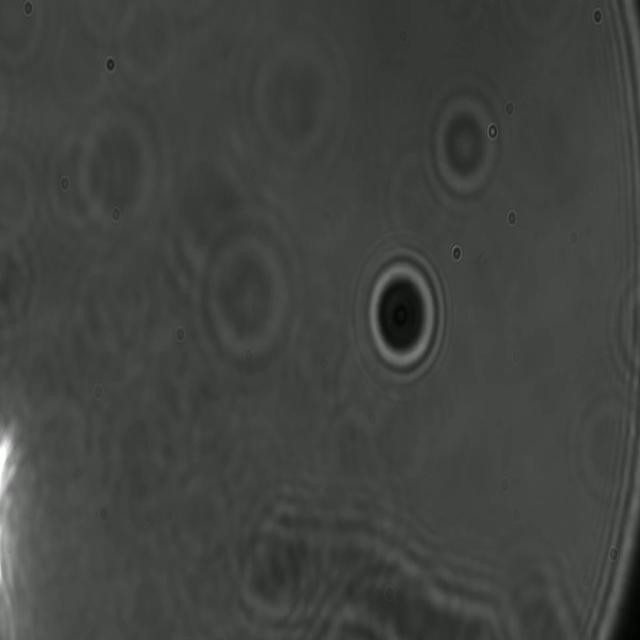DCELL: (364, 251, 447, 385)
